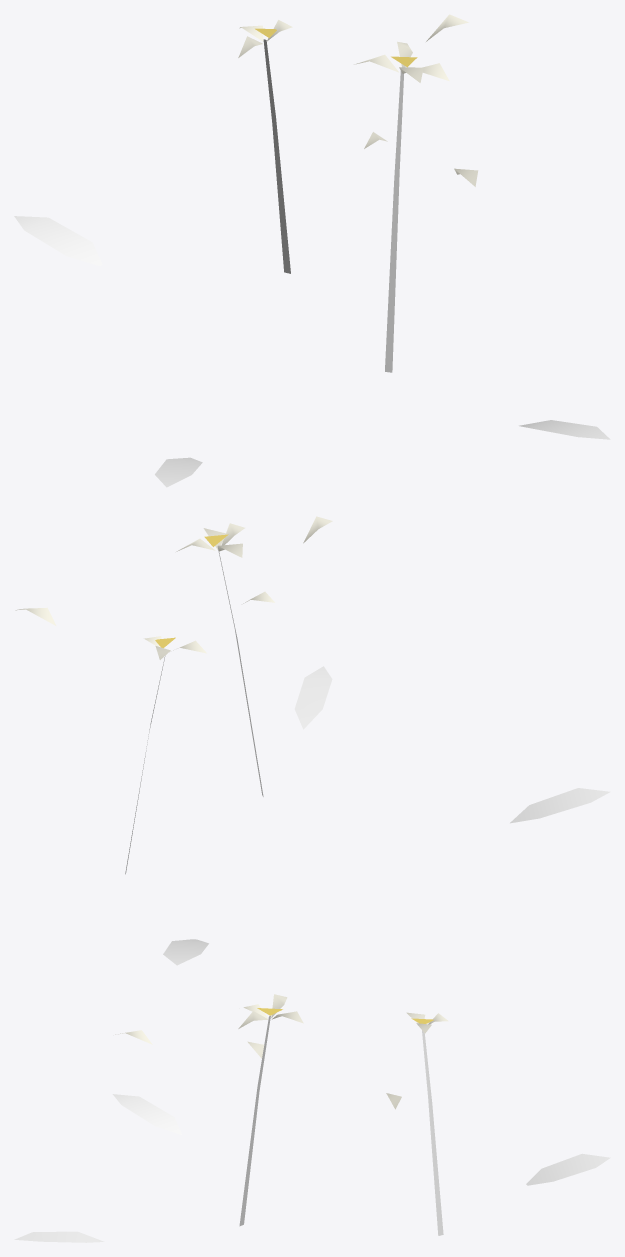
Rendered from TinyDaisyClump_LOD2.glb.
3 views of the same model, one above another, from view 1: azimuth 30°, elevation 25°; view 2: azimuth 150°, elevation 25°; view 3: azimuth 270°, elevation 25° (orthographic). The views are drawn at different scales.
Visible parts, largest first — view 1: TinyDaisyClump_LOD2; view 2: TinyDaisyClump_LOD2; view 3: TinyDaisyClump_LOD2.
Part boxes in pixels (bbox=[...]): TinyDaisyClump_LOD2: bbox=[14, 14, 610, 487]; TinyDaisyClump_LOD2: bbox=[15, 516, 610, 965]; TinyDaisyClump_LOD2: bbox=[14, 994, 610, 1242].
Bounding box in the file's own units: 0.7053 × 0.4127 × 0.9616.
